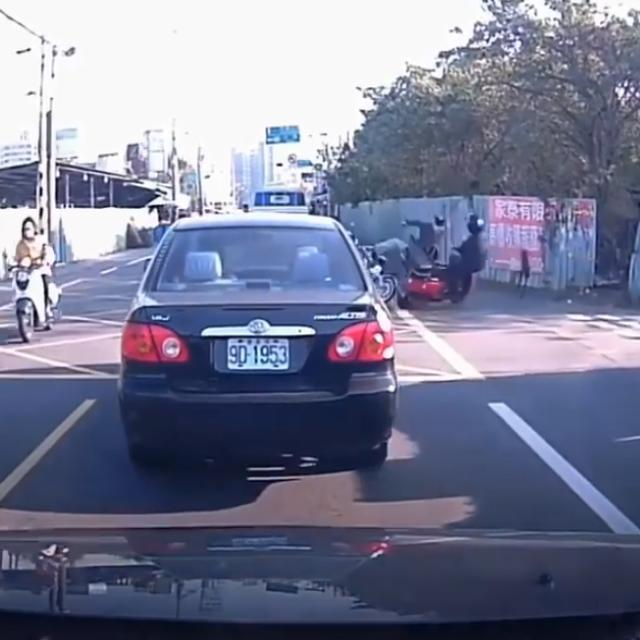accident: (360, 212, 490, 312)
